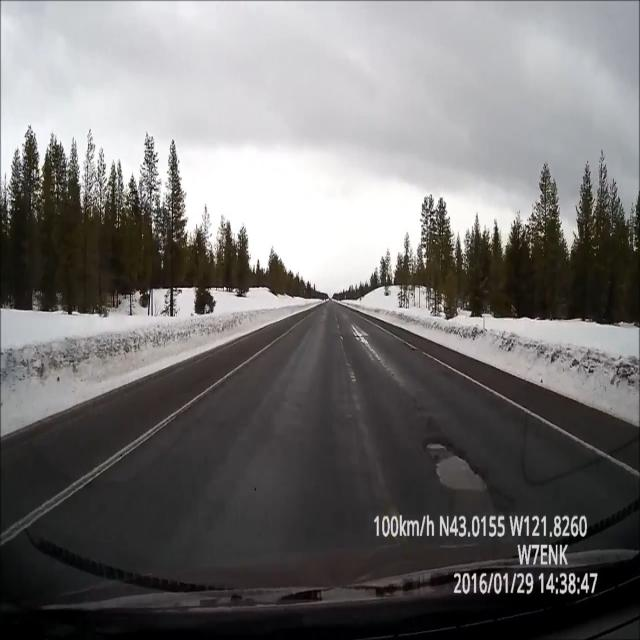Pothole: (418, 429, 501, 504)
